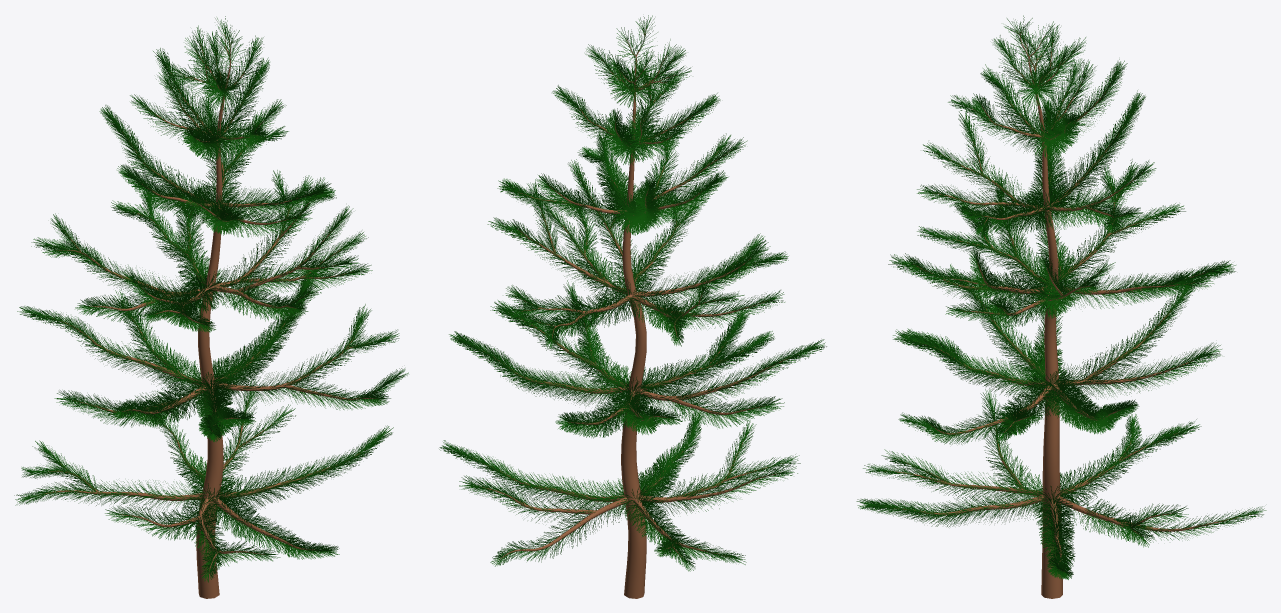
Rendered from pine_02_lod1.fbx.
3 renders of one model, left to right at view 1: azimuth 30°, elevation 25°; view 2: azimuth 150°, elevation 25°; view 3: azimuth 270°, elevation 25°, orthographic. The views are drawn at different scales.
Parts seen in each view (by area): view 1: pine_02_lod2; view 2: pine_02_lod2; view 3: pine_02_lod2.
Boxes of the visible parts, left/top/right/bottom form: pine_02_lod2: left=14, top=16, right=408, bottom=598; pine_02_lod2: left=439, top=15, right=826, bottom=598; pine_02_lod2: left=856, top=15, right=1266, bottom=598.
Size of the model in its own units: 432 by 690 by 441.
